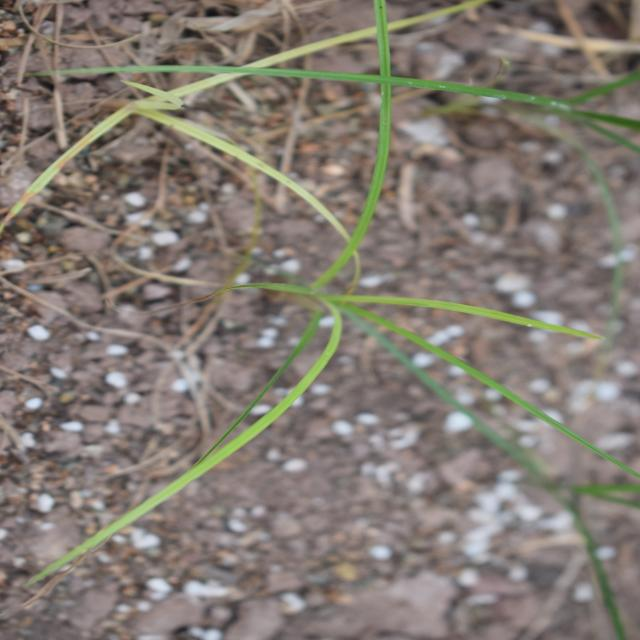sedge: (139, 54, 551, 558)
